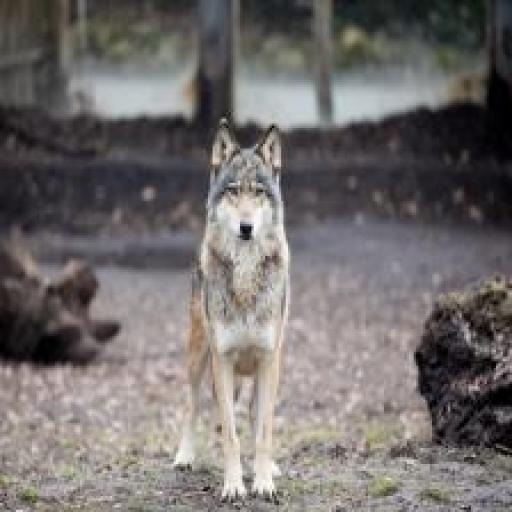wolf: (169, 119, 292, 505)
